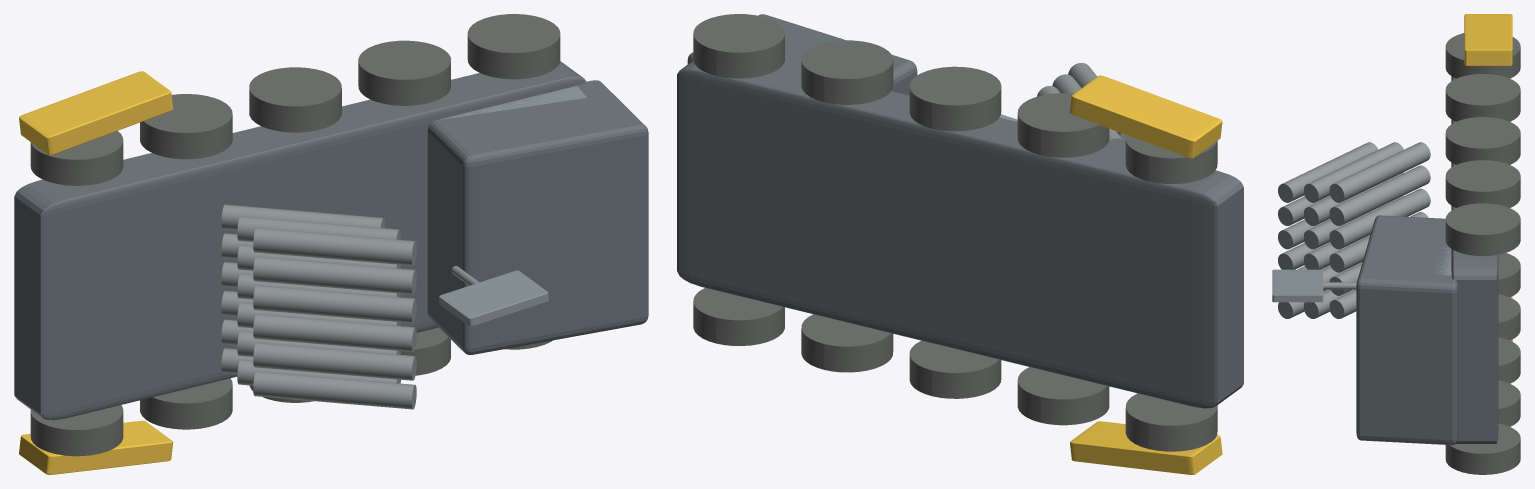
Rendered from s-x03-specter-drone-lod1.glb.
3 views of the same model, side by side, from view 1: azimuth 30°, elevation 25°; view 2: azimuth 150°, elevation 25°; view 3: azimuth 270°, elevation 25° (orthographic). The views are drawn at different scales.
Visible parts, largest first — view 1: strategic_lower, strategic_cab, strategic_jack_1, strategic_wheel_1_4, strategic_wheel_1_2, strategic_wheel_1_3, strategic_wheel_1_1, drone_cells_tube_17, drone_cells_tube_13, drone_cells_tube_16, drone_cells_tube_14, drone_cells_tube_15 (+15 smaller); view 2: strategic_lower, strategic_jack_1, strategic_wheel_1_2, strategic_wheel_1_3, strategic_wheel_1_4, strategic_wheel_1_1, strategic_jack_-1, strategic_wheel_-1_0, strategic_wheel_-1_1, strategic_wheel_-1_3, strategic_wheel_-1_2, strategic_wheel_-1_4 (+3 smaller); view 3: strategic_cab, strategic_lower, strategic_wheel_1_4, strategic_wheel_1_3, strategic_wheel_1_2, strategic_wheel_1_1, strategic_jack_1, strategic_wheel_-1_4, drone_cells_tube_5, drone_cells_tube_6, drone_cells_tube_4, drone_control_array (+20 smaller).
Part boxes in pixels (x1,y1,x2,y2): strategic_lower: (14,61,586,420); strategic_cab: (427,80,648,354); strategic_jack_1: (19,71,173,154); strategic_wheel_1_4: (467,14,560,79); strategic_wheel_1_2: (249,67,341,132); strategic_wheel_1_3: (358,40,450,105); strategic_wheel_1_1: (140,94,232,159); drone_cells_tube_17: (253,256,416,294); drone_cells_tube_13: (253,371,416,409); drone_cells_tube_16: (253,285,416,323); drone_cells_tube_14: (253,342,416,380); drone_cells_tube_15: (253,314,416,351); strategic_lower: (677,61,1243,408); strategic_jack_1: (1070,75,1222,158); strategic_wheel_1_2: (909,66,1001,131); strategic_wheel_1_3: (801,40,893,104); strategic_wheel_1_4: (693,14,784,78); strategic_wheel_1_1: (1017,93,1109,157); strategic_jack_-1: (1070,421,1222,474); strategic_wheel_-1_0: (1125,393,1217,451); strategic_wheel_-1_1: (1017,367,1109,425); strategic_wheel_-1_3: (801,314,893,372); strategic_wheel_-1_2: (909,340,1001,398); strategic_wheel_-1_4: (693,288,784,345); strategic_cab: (1356,215,1458,445); strategic_lower: (1451,76,1498,443); strategic_wheel_1_4: (1445,203,1520,256); strategic_wheel_1_3: (1445,160,1520,207); strategic_wheel_1_2: (1445,117,1520,164); strategic_wheel_1_1: (1445,74,1520,121); strategic_jack_1: (1464,14,1512,65); strategic_wheel_-1_4: (1445,423,1520,474); drone_cells_tube_5: (1329,165,1430,225); drone_cells_tube_6: (1329,142,1430,202); drone_cells_tube_4: (1329,188,1430,249); drone_control_array: (1272,269,1323,302).
Size of what is drawn, in the model's own units: 9.12 by 5.72 by 4.32.
